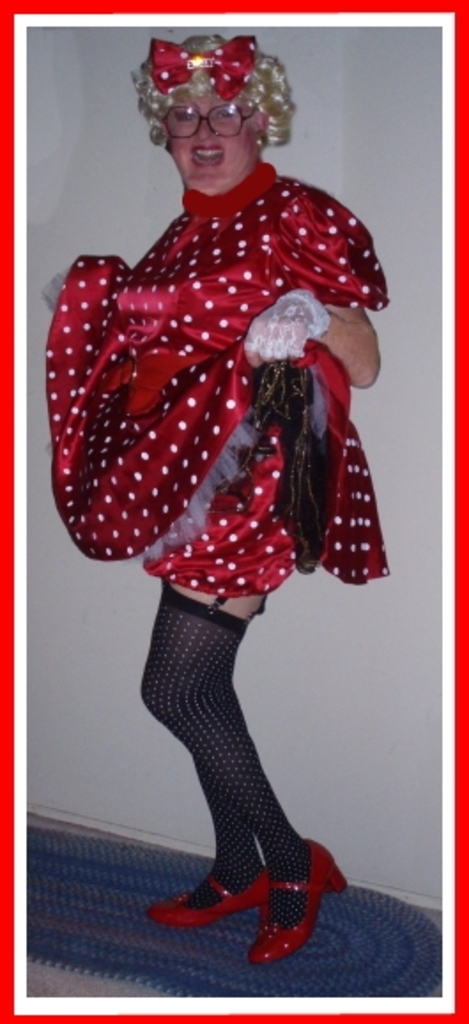Person: (40, 33, 390, 965)
